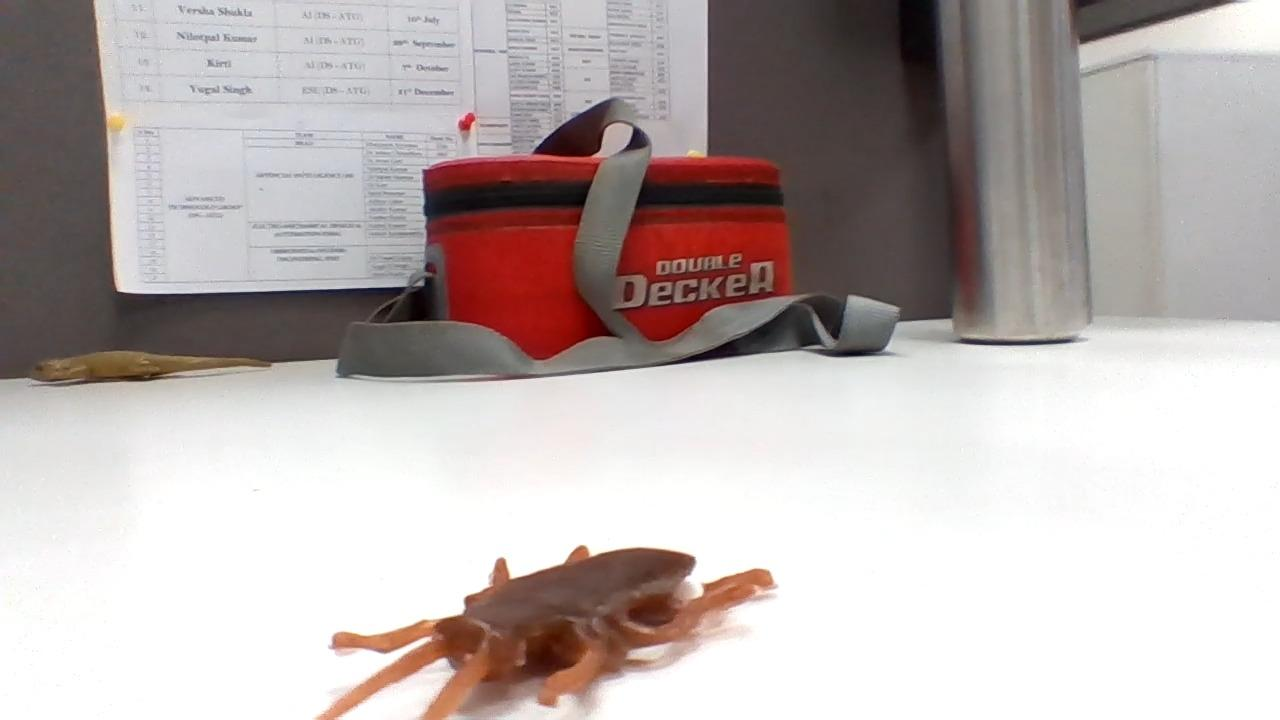cockroach: (297, 539, 786, 720)
